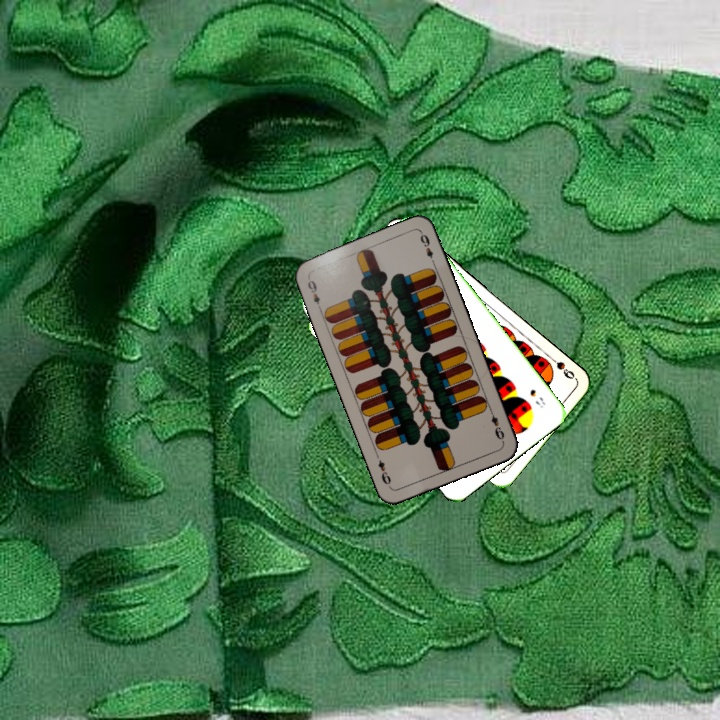E9: (485, 405, 507, 444), (303, 276, 323, 306)
S8: (526, 385, 548, 411)
S9: (544, 351, 577, 382)
